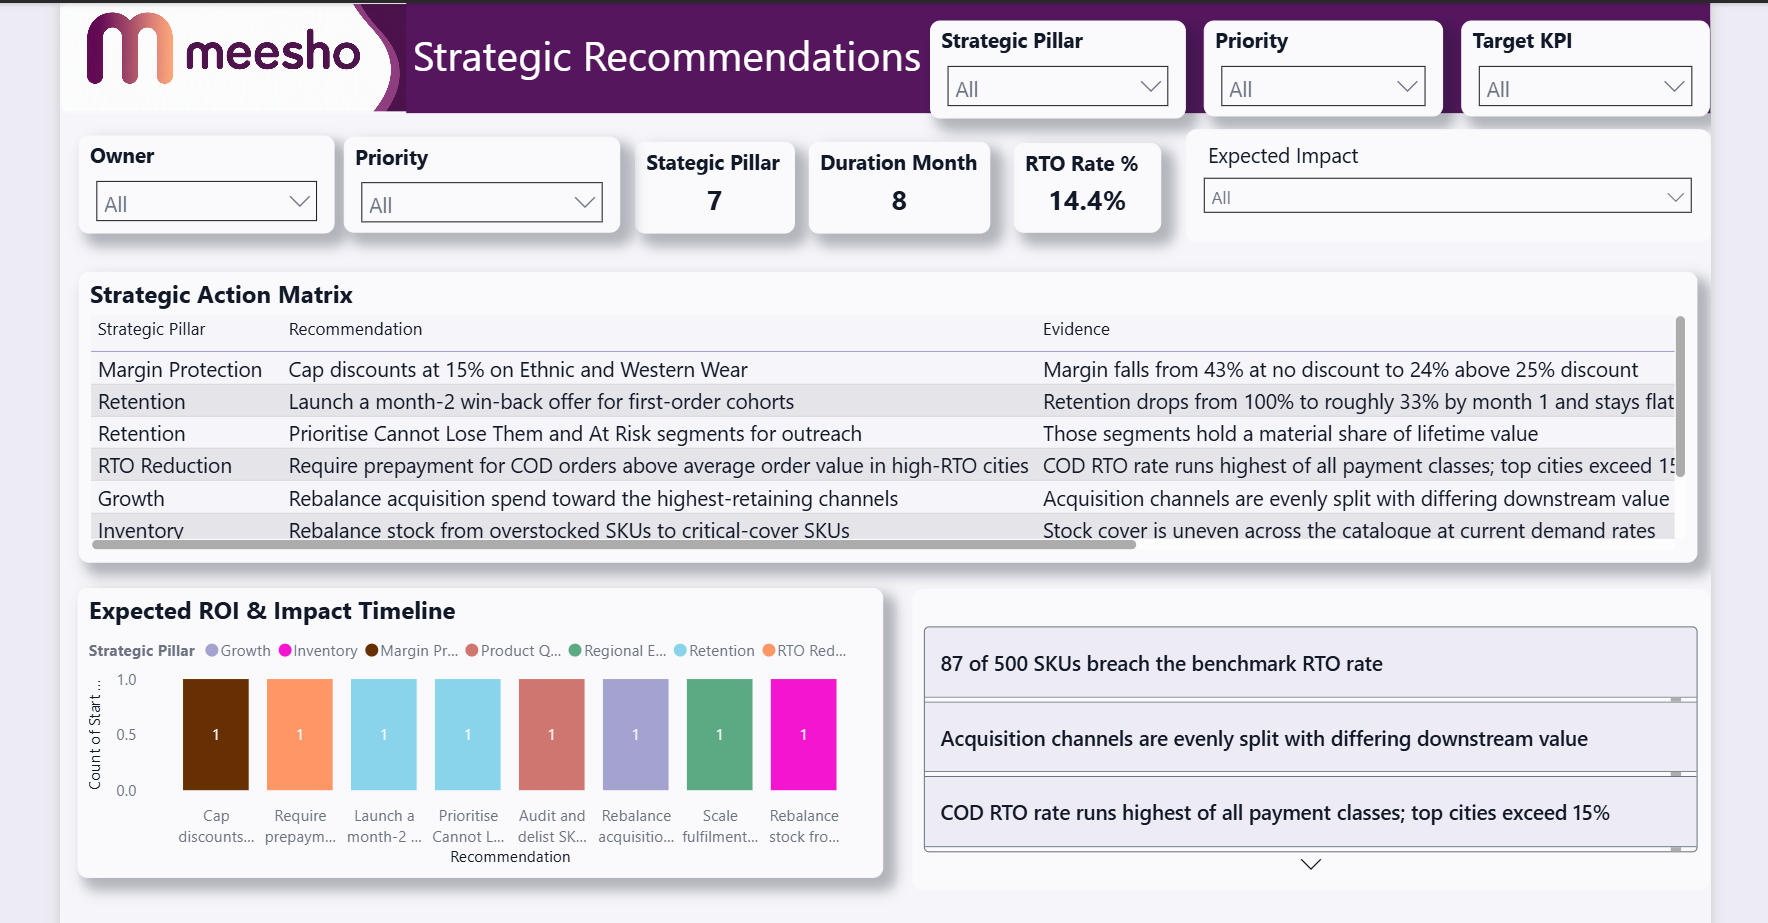

Layout of this report page (visuals, bound fields, positions):
{"tool":"powerbi","page":{"name":"Strategic Recommendations","canvas":[1280,720],"ordinal":6},"visuals":[{"type":"image","box":[0,0,280.5,85.4],"z":0},{"type":"shape","box":[268.7,0,1011.3,85.4],"z":1000},{"type":"textbox","box":[268.7,13.3,404.8,55.4],"z":2000},{"type":"slicer","title":"Strategic Pillar","fields":{"Values":["Strategic Actions.Strategic Pillar"]},"box":[674.7,13.3,198.8,75.9],"z":3000},{"type":"slicer","title":"Priority","fields":{"Values":["Strategic Actions.Priority"]},"box":[886.7,13.3,185.5,74.7],"z":4000},{"type":"slicer","title":"Target KPI","fields":{"Values":["Strategic Actions.Target KPI"]},"box":[1086.7,13.3,192.8,74.7],"z":5000},{"type":"card","title":"RTO Rate %","fields":{"Values":["Metrics.RTO Rate %"]},"box":[739.8,108.4,114.5,69.9],"z":6000},{"type":"card","title":"Stategic Pillar","fields":{"Values":["Count(Strategic Actions.Strategic Pillar)"]},"box":[445.8,107.2,124.1,71.1],"z":7000},{"type":"card","title":"Duration Month","fields":{"Values":["CountNonNull(Strategic Actions.Duration Months)"]},"box":[580.7,107.2,141,71.1],"z":8000},{"type":"tableEx","title":"Strategic Action Matrix","fields":{"Values":["Strategic Actions.Strategic Pillar","Strategic Actions.Recommendation","Strategic Actions.Evidence","Strategic Actions.Priority","Strategic Actions.Target KPI","Strategic Actions.Owner","Strategic Actions.Expected Impact"]},"box":[14.5,208.4,1255.4,225.3],"z":9000},{"type":"columnChart","title":"Expected ROI & Impact Timeline","fields":{"Category":["Strategic Actions.Recommendation"],"Series":["Strategic Actions.Strategic Pillar"],"Y":["CountNonNull(Strategic Actions.Start Month)"]},"box":[14,454,625,225],"z":10000},{"type":"slicer","title":"Owner","fields":{"Values":["Strategic Actions.Owner"]},"box":[14.5,102.4,198.8,75.9],"z":11000},{"type":"slicer","title":"Priority","fields":{"Values":["Strategic Actions.Priority"]},"box":[220.5,103.6,214.5,74.7],"z":12000},{"type":"cardVisual","fields":{"Rows":["Strategic Actions.Evidence"]},"box":[661.4,454.2,618.1,233.7],"z":13000},{"type":"slicer","fields":{"Values":["Strategic Actions.Expected Impact"]},"box":[873.5,97.6,406,88],"z":14000}]}

Visuals, with their boxes on the page's 1280x720 design canvas (x1, y1, x2, y2). These are canvas units, not pixel positions in the 1768x923 screenshot, which may show the page scaled, cropped or inside an application window:
image: pyautogui.locateOnScreen(0, 0, 280, 85)
shape: pyautogui.locateOnScreen(269, 0, 1280, 85)
textbox: pyautogui.locateOnScreen(269, 13, 674, 69)
"Strategic Pillar" slicer: pyautogui.locateOnScreen(675, 13, 874, 89)
"Priority" slicer: pyautogui.locateOnScreen(887, 13, 1072, 88)
"Target KPI" slicer: pyautogui.locateOnScreen(1087, 13, 1280, 88)
"RTO Rate %" card: pyautogui.locateOnScreen(740, 108, 854, 178)
"Stategic Pillar" card: pyautogui.locateOnScreen(446, 107, 570, 178)
"Duration Month" card: pyautogui.locateOnScreen(581, 107, 722, 178)
"Strategic Action Matrix" tableEx: pyautogui.locateOnScreen(14, 208, 1270, 434)
"Expected ROI & Impact Timeline" columnChart: pyautogui.locateOnScreen(14, 454, 639, 679)
"Owner" slicer: pyautogui.locateOnScreen(14, 102, 213, 178)
"Priority" slicer: pyautogui.locateOnScreen(220, 104, 435, 178)
cardVisual - Strategic Actions.Evidence: pyautogui.locateOnScreen(661, 454, 1280, 688)
slicer - Strategic Actions.Expected Impact: pyautogui.locateOnScreen(874, 98, 1280, 186)
